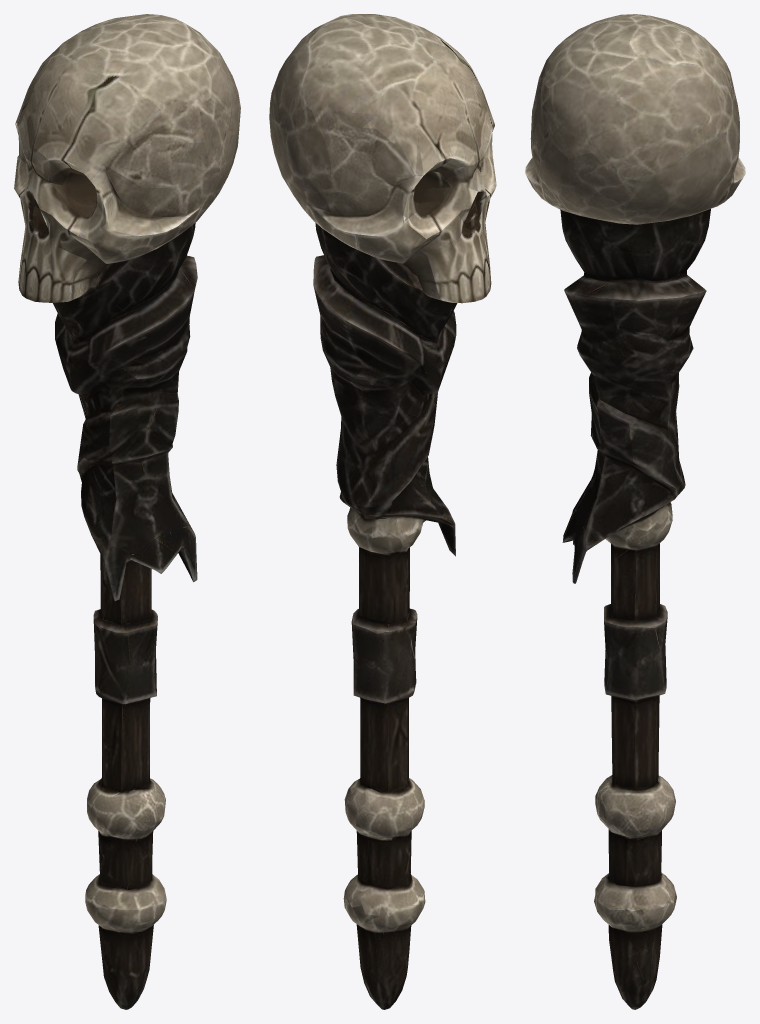
Rendered from bonecaller_staff.glb.
3 views of the same model, side by side, from view 1: azimuth 30°, elevation 25°; view 2: azimuth 150°, elevation 25°; view 3: azimuth 270°, elevation 25° (orthographic).
Bounding box in the file's own units: 0.4579 × 2.1 × 0.4235.
1 material, 1 textured.
